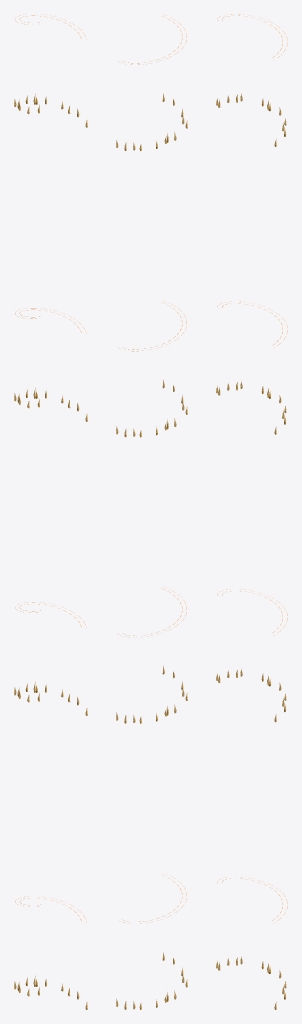
The model's file is Circle8Glow.obj.
3 views of the same model, side by side, from view 1: azimuth 30°, elevation 25°; view 2: azimuth 210°, elevation 25°; view 3: azimuth 330°, elevation 25° (orthographic). The views are drawn at different scales.
Parts seen in each view (by area): view 1: Circle8Glow; view 2: Circle8Glow; view 3: Circle8Glow.
Part boxes in pixels (x1,y1,x2,y2): Circle8Glow: [14, 14, 87, 1009]; Circle8Glow: [116, 14, 187, 1009]; Circle8Glow: [216, 14, 287, 1009].
Bounding box in the file's own units: 26.71 × 409 × 22.2.
Materials: 1 (1 with a texture image).
